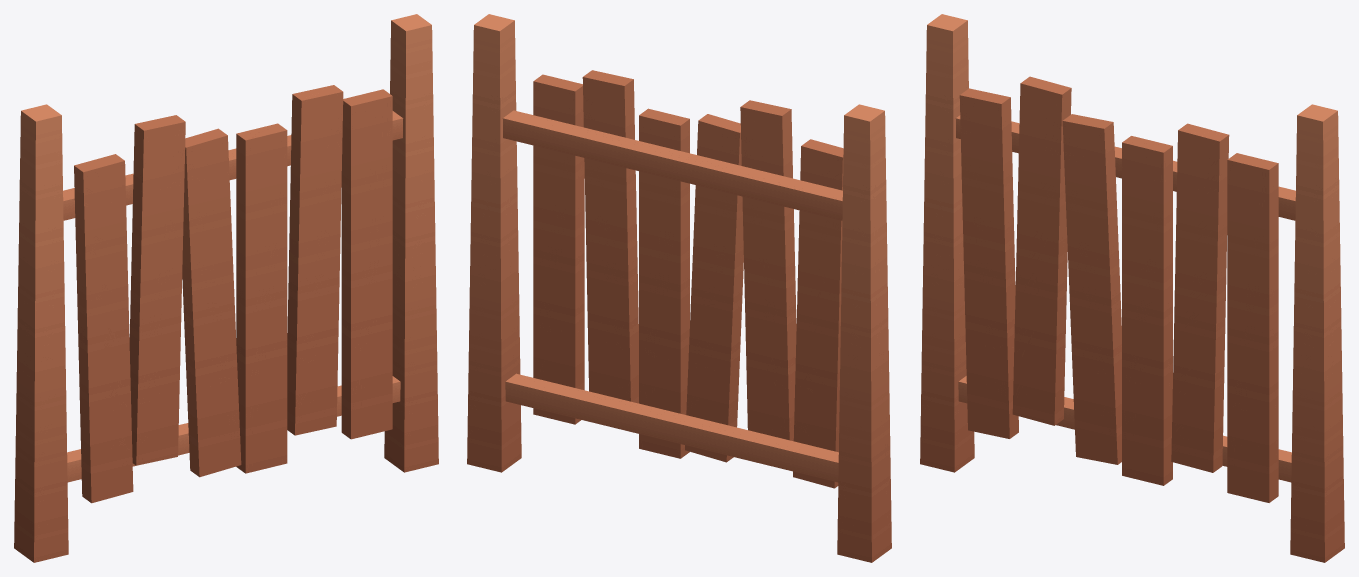
The model's file is fence-fortified.glb.
3 views of the same model, side by side, from view 1: azimuth 30°, elevation 25°; view 2: azimuth 150°, elevation 25°; view 3: azimuth 330°, elevation 25° (orthographic).
Parts seen in each view (by area): view 1: fence-fortified; view 2: fence-fortified; view 3: fence-fortified.
Boxes of the visible parts, x1=… form: fence-fortified: x1=14, y1=14, x2=438, y2=562; fence-fortified: x1=467, y1=14, x2=891, y2=562; fence-fortified: x1=920, y1=14, x2=1344, y2=562.
Bounding box in the file's own units: 0.5 × 0.5175 × 0.053.
1 material, 1 textured.
